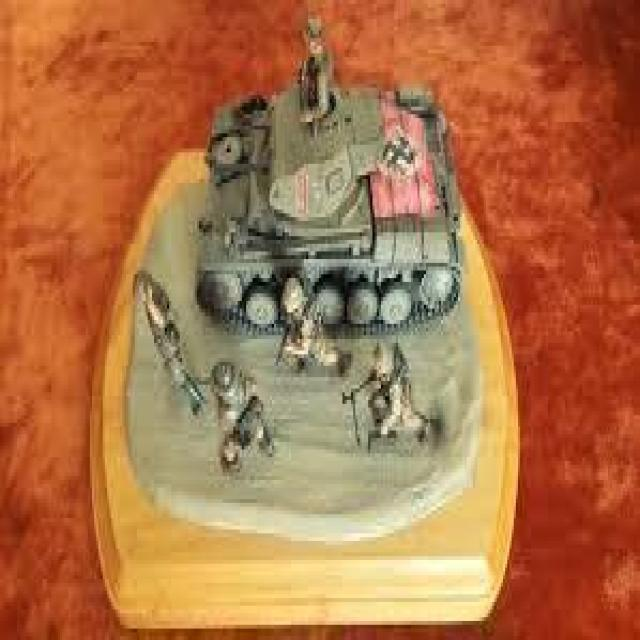Tanks: (200, 90, 459, 292)
